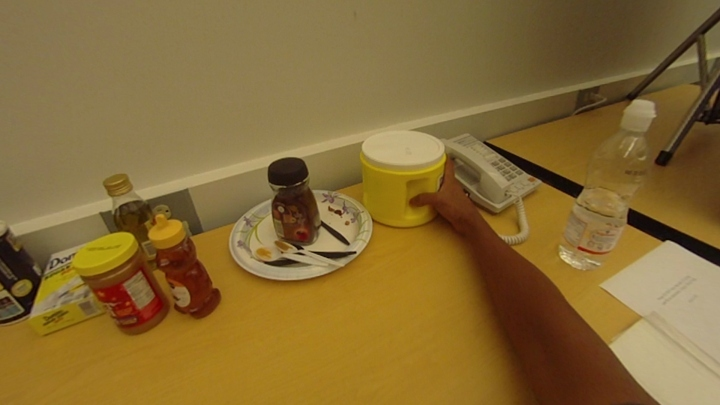hand: (407, 156, 486, 241)
